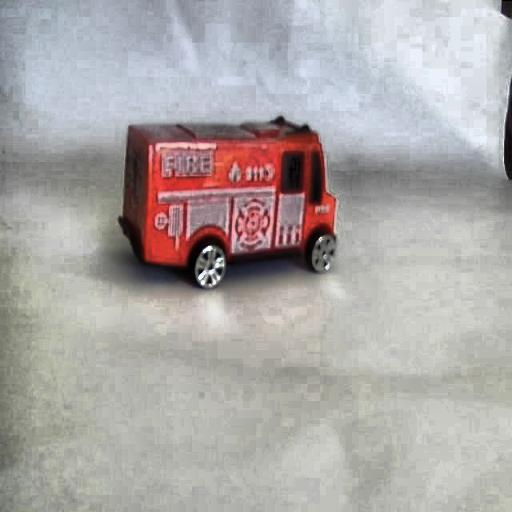fire_truck: (126, 130, 342, 291)
